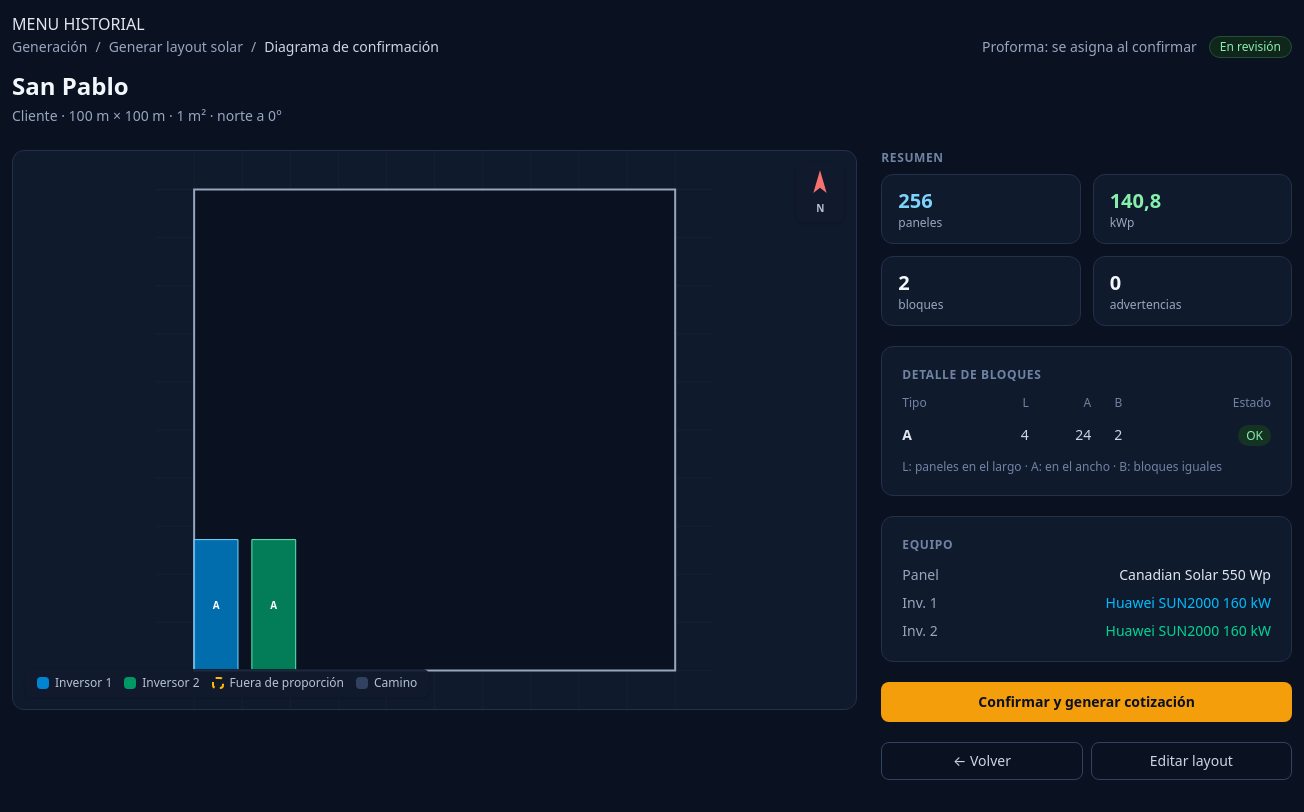
Test: Diagrama de confirmación › muestra el error del backend y deja reintentar
Check: the heading "DETALLE DE BLOQUES" is shown, box x1=902 y1=366 x2=1041 y2=383
Step 1. Click the button "Confirmar y generar cotización" → (1087, 702), box x1=881 y1=682 x2=1292 y2=722
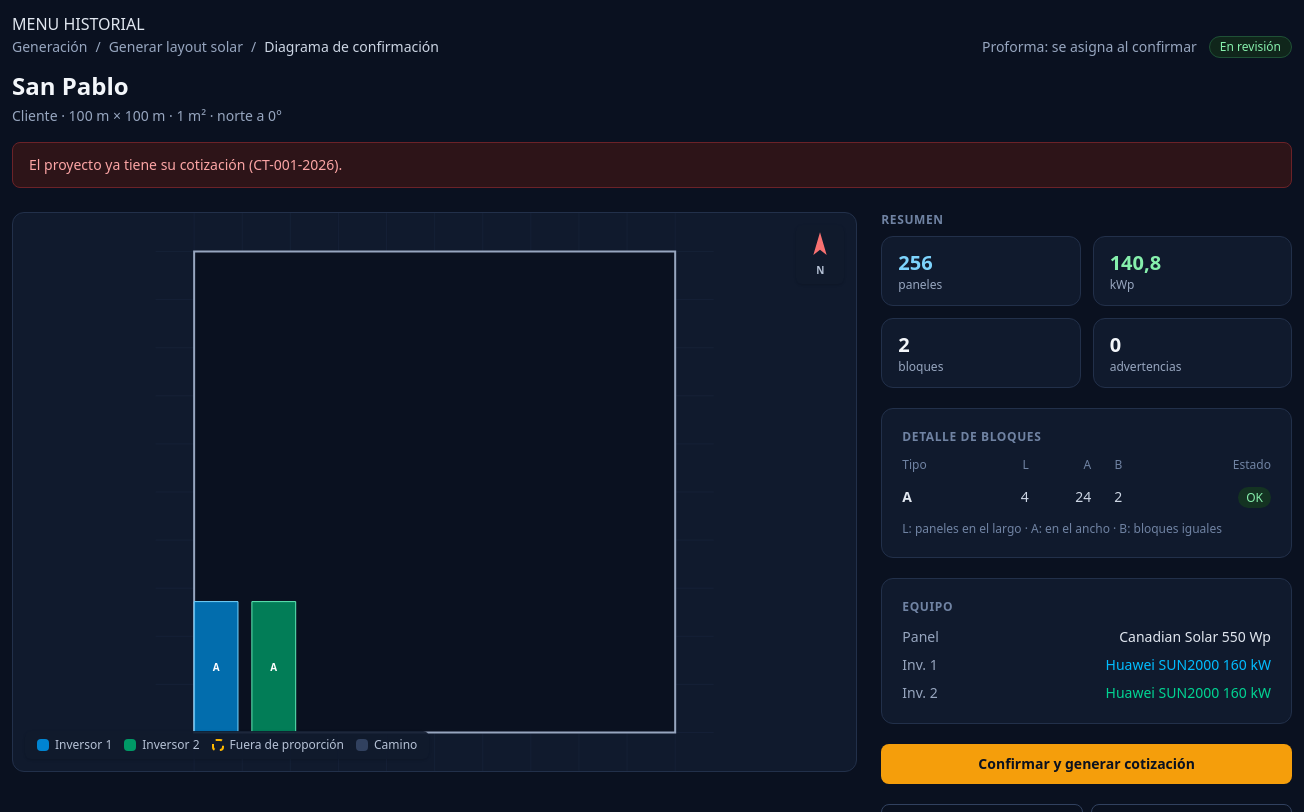
Check: the button "Confirmar y generar cotización" is enabled, box x1=881 y1=744 x2=1292 y2=784
Check: the message shows "ya tiene su cotización", box x1=29 y1=155 x2=342 y2=174
